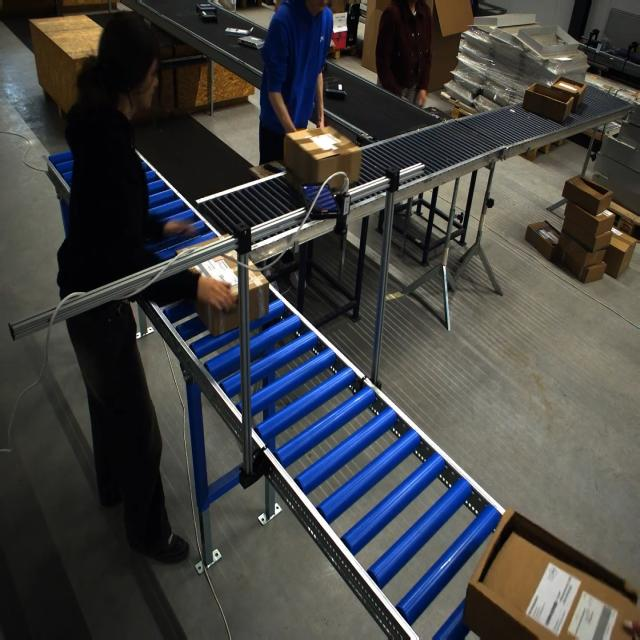box: (464, 502, 635, 640), (184, 237, 267, 334), (284, 128, 351, 190)
product: (196, 3, 217, 22), (237, 36, 265, 50), (325, 85, 346, 99), (224, 26, 252, 36)
